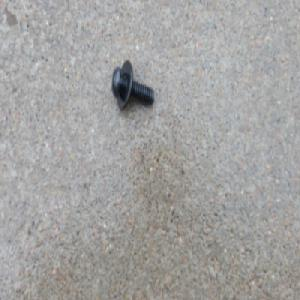BoltWasher: (110, 61, 154, 112)
